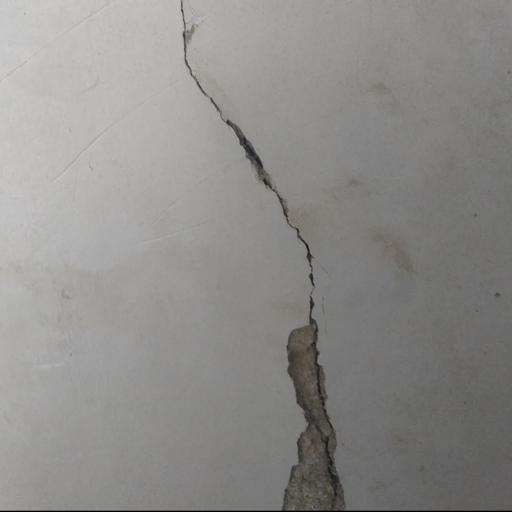major_crack: (166, 0, 371, 512)
